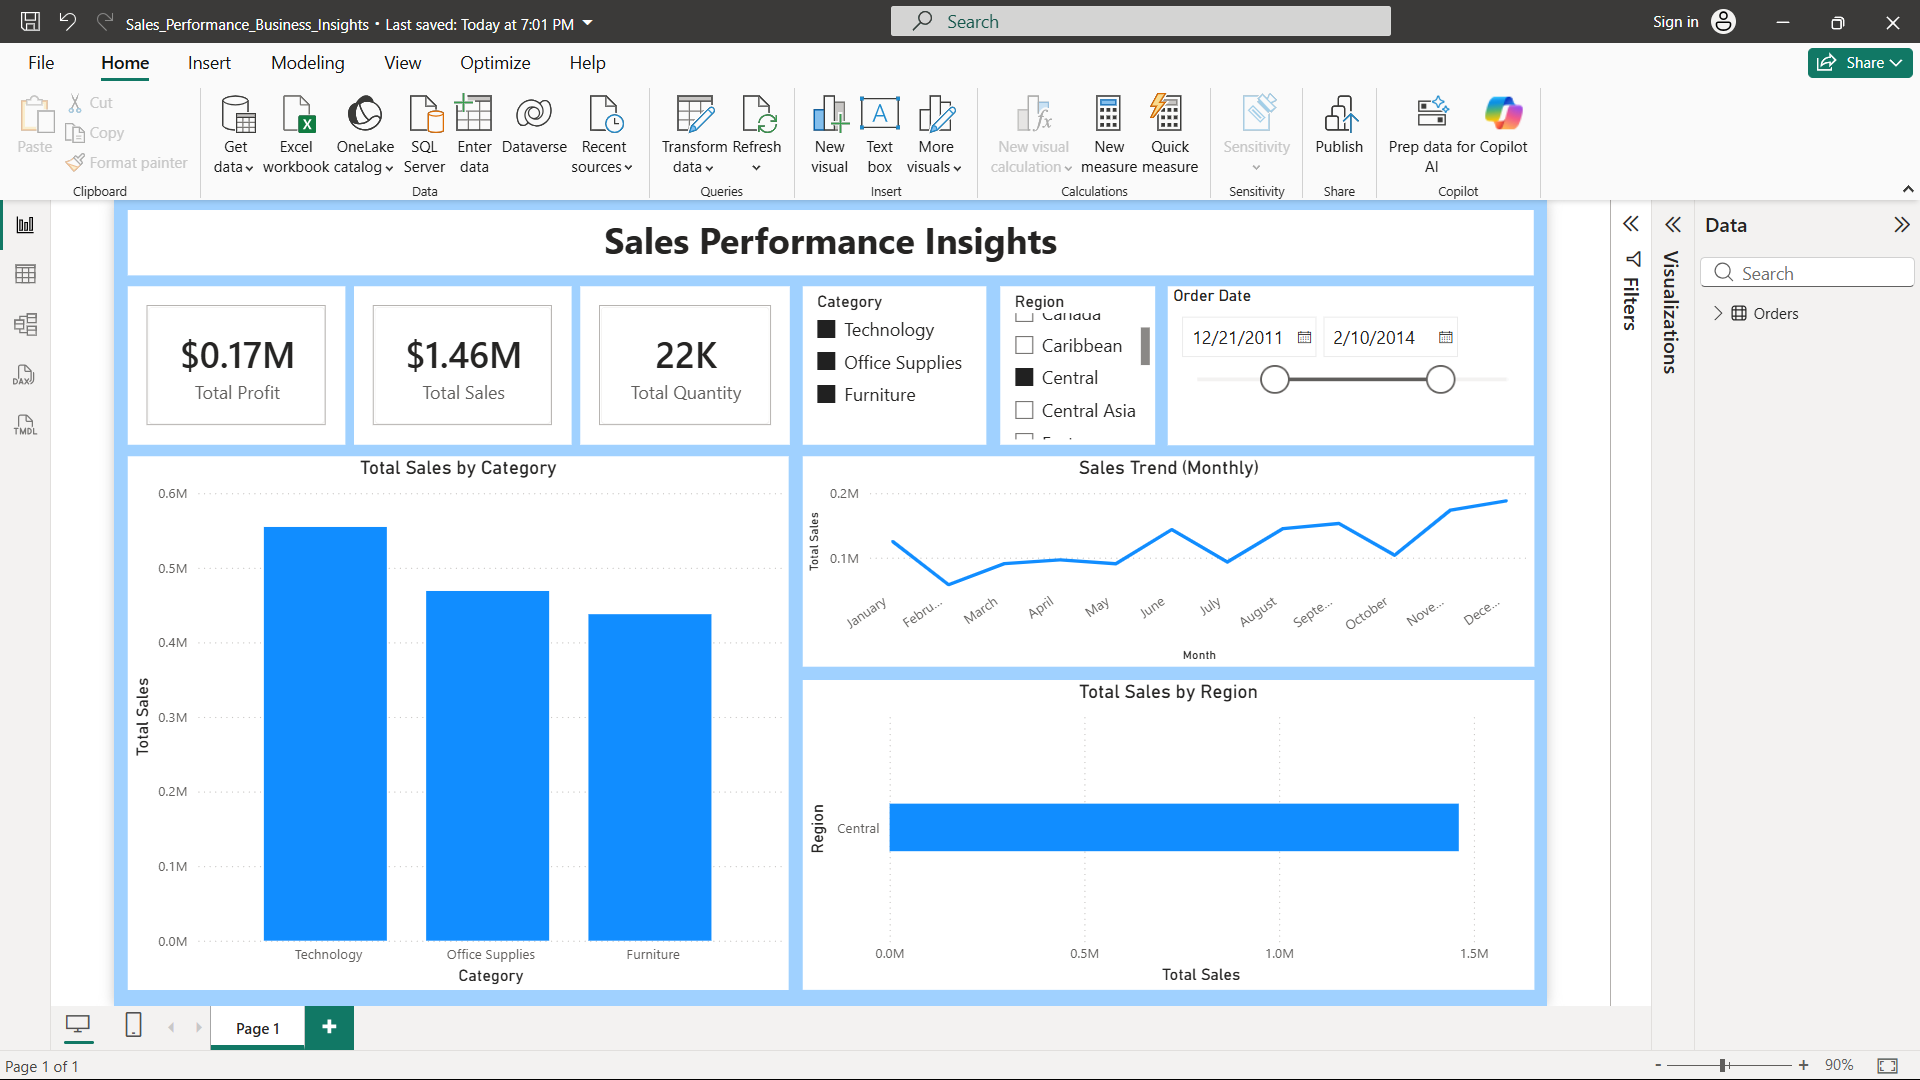

The dashboard page shown, as its layout file describes it:
{"tool":"powerbi","page":{"name":"Page 1","canvas":[1280,720],"ordinal":0},"visuals":[{"type":"cardVisual","fields":{"Data":["Orders.Total Profit"]},"box":[12.3,77,194.3,141.8],"z":0},{"type":"cardVisual","fields":{"Data":["Orders.Total Sales"]},"box":[214.4,77,194.3,141.8],"z":1000},{"type":"cardVisual","fields":{"Data":["Orders.Total Quantity"]},"box":[416.3,76.7,187.2,141.9],"z":2000},{"type":"lineChart","title":"Sales Trend (Monthly)","fields":{"Y":["Orders.Total Sales"],"Category":["Orders.Order_Date.Variation.Date Hierarchy.Month"]},"box":[615.1,229.1,653.5,188.4],"z":3000},{"type":"clusteredColumnChart","fields":{"Y":["Orders.Total Sales"],"Category":["Orders.Category"]},"box":[12.8,229.1,590.7,476.7],"z":4000},{"type":"clusteredBarChart","fields":{"Category":["Orders.Region"],"Y":["Orders.Total Sales"]},"box":[615.1,429.1,653.5,276.7],"z":5000},{"type":"slicer","title":"Order Date","fields":{"Values":["Orders.Order_Date"]},"box":[941.9,76.7,326,141.9],"z":6000},{"type":"slicer","fields":{"Values":["Orders.Region"]},"box":[791.9,76.7,138.4,141.9],"z":7000},{"type":"slicer","fields":{"Values":["Orders.Category"]},"box":[615.1,76.7,164,141.9],"z":8000},{"type":"textbox","box":[12.8,9.3,1255.8,58.1],"z":9000}]}

Visuals, with their boxes on the page's 1280x720 design canvas (x1, y1, x2, y2). These are canvas units, not pixel positions in the 1920x1080 screenshot, which may show the page scaled, cropped or inside an application window:
cardVisual - Orders.Total Profit: Rect(12, 77, 207, 219)
cardVisual - Orders.Total Sales: Rect(214, 77, 409, 219)
cardVisual - Orders.Total Quantity: Rect(416, 77, 604, 219)
"Sales Trend (Monthly)" lineChart: Rect(615, 229, 1269, 418)
clusteredColumnChart - Orders.Total Sales x Orders.Category: Rect(13, 229, 604, 706)
clusteredBarChart - Orders.Region x Orders.Total Sales: Rect(615, 429, 1269, 706)
"Order Date" slicer: Rect(942, 77, 1268, 219)
slicer - Orders.Region: Rect(792, 77, 930, 219)
slicer - Orders.Category: Rect(615, 77, 779, 219)
textbox: Rect(13, 9, 1269, 67)
